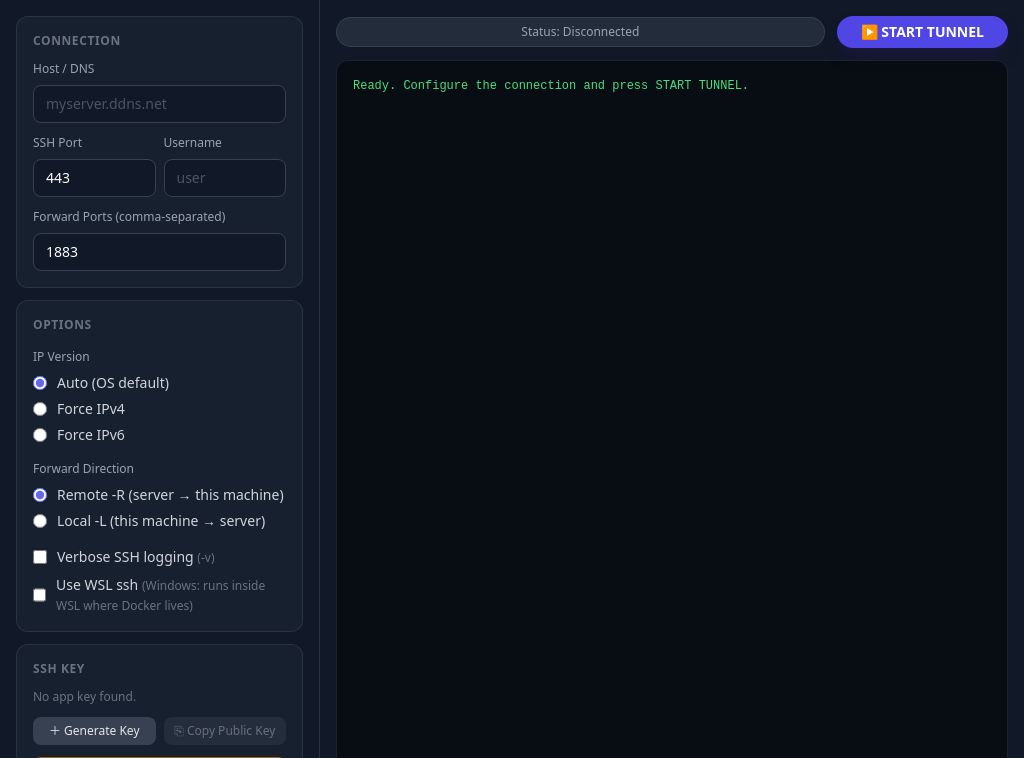
Scenario: SshTab generateKey › refreshes public key display on success
Click the button "＋ Generate Key" at (94, 731), box [33,717,156,745]
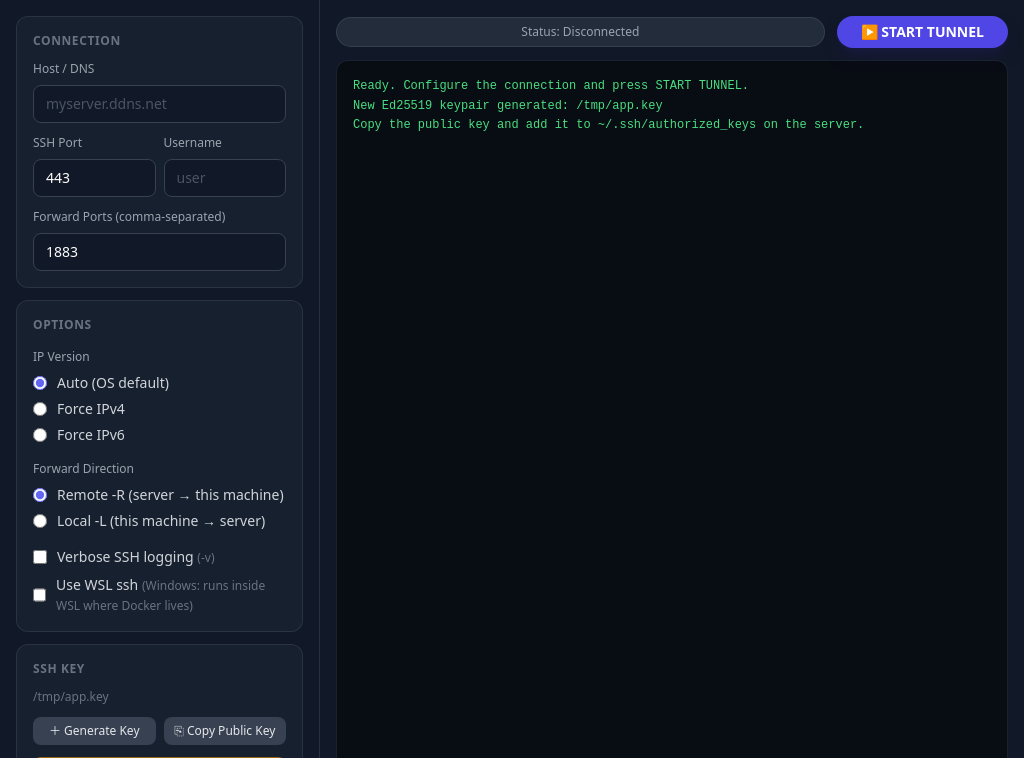
Expected: the text "/tmp/app.key" is shown, [33,688,109,705]
